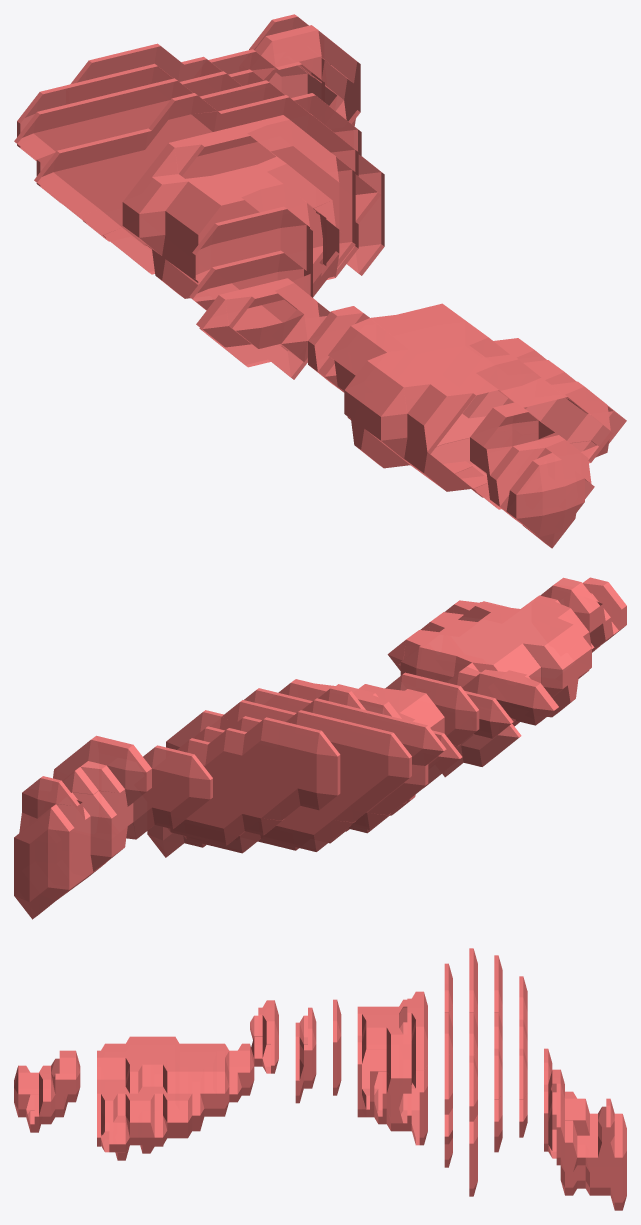
The model's file is SVV_BWM-DR05.gltf.
3 views of the same model, one above another, from view 1: azimuth 30°, elevation 25°; view 2: azimuth 150°, elevation 25°; view 3: azimuth 270°, elevation 25° (orthographic). The views are drawn at different scales.
Parts seen in each view (by area): view 1: BWM-DR05; view 2: BWM-DR05; view 3: BWM-DR05.
Part boxes in pixels (bbox=[...]): BWM-DR05: bbox=[14, 14, 626, 548]; BWM-DR05: bbox=[14, 577, 626, 919]; BWM-DR05: bbox=[14, 948, 626, 1210].
Bounding box in the file's own units: 9213 × 5120 × 18953.
